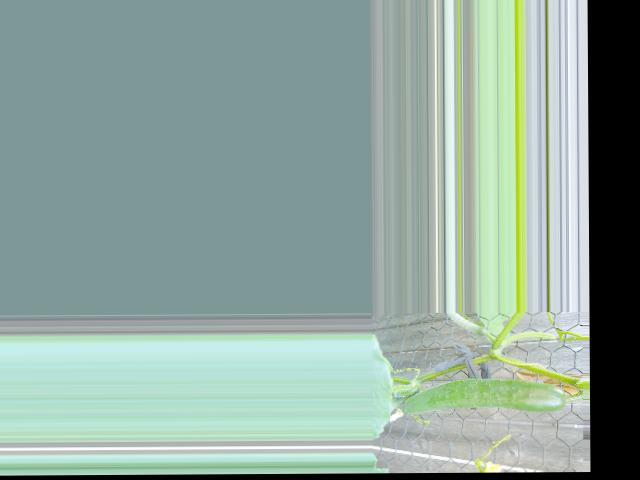cucumber: (403, 377, 566, 414)
